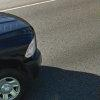Car: (0, 5, 44, 99)
